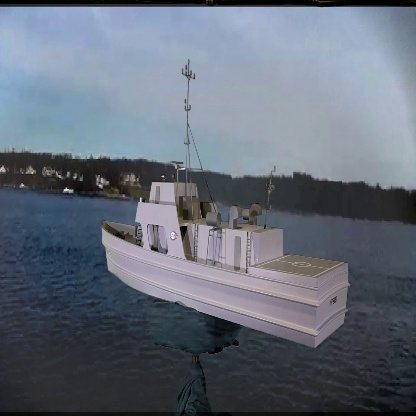YP689: (100, 55, 351, 351)
